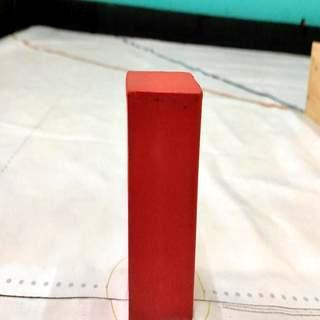redbox: (126, 71, 202, 320)
